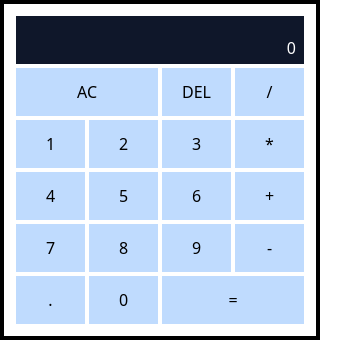
Test: Calculator › resets the calculator when AC is pressed
Check: the text with test id "currentOperand" reads "0", box [287,37,296,59]
Click the button "1" at (50, 144), box [16,120,85,168]
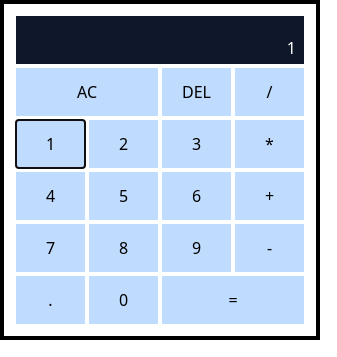
Click the button "2" at (124, 144), box [89,120,158,168]
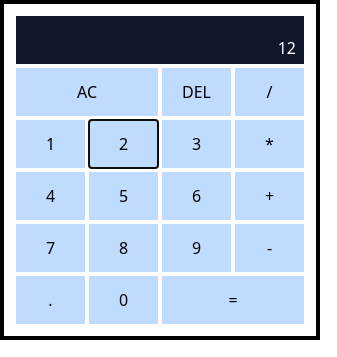
Click the button "3" at (196, 144), box [162,120,231,168]
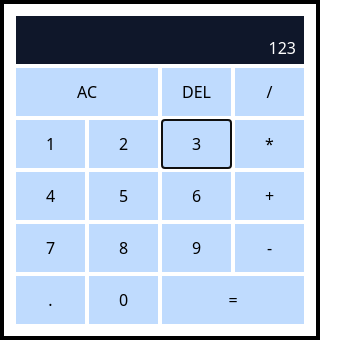
Check: the text with test id "currentOperand" reads "123", box [268,37,296,59]
Click the button "AC" at (87, 92), box [16,68,158,116]
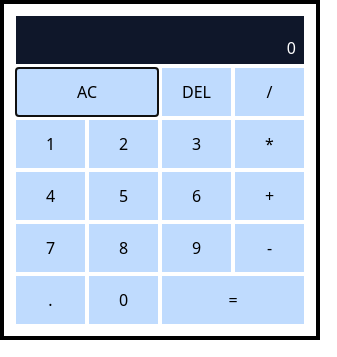
Check: the text with test id "currentOperand" reads "0", box [287,37,296,59]
